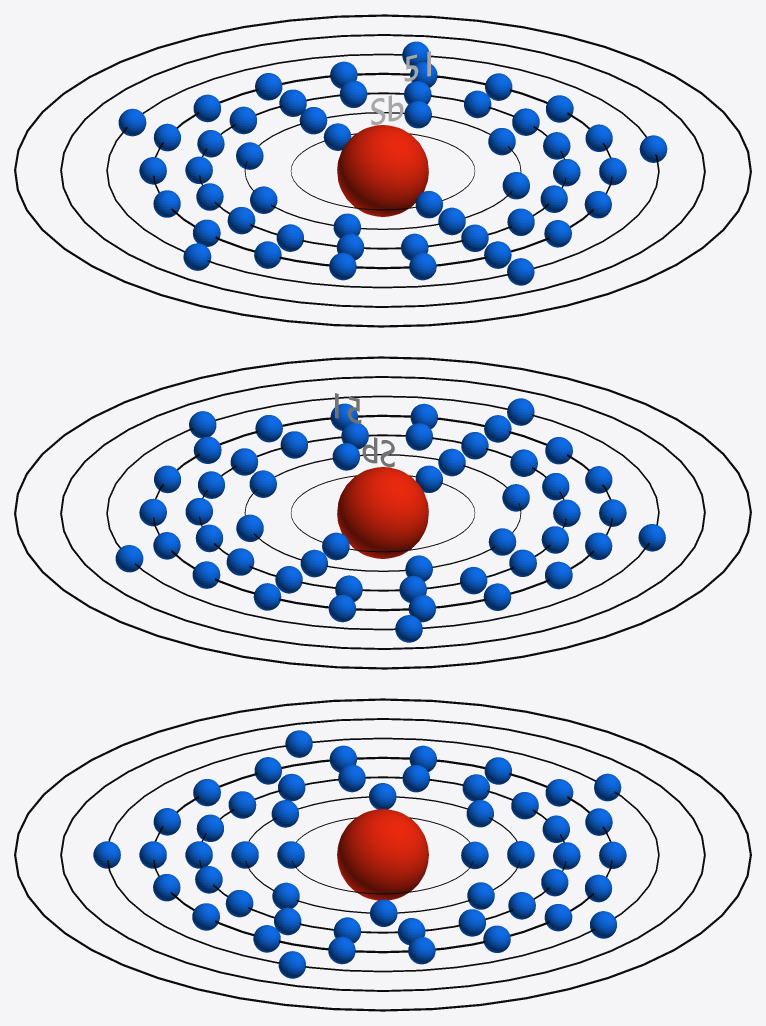
3 renders of one model, top to bottom at view 1: azimuth 30°, elevation 25°; view 2: azimuth 150°, elevation 25°; view 3: azimuth 270°, elevation 25°, orthographic.
Parts seen in each view (by area): view 1: Sb3, Sb4, Proton, Sb2, n7, n6, Sb5, n5, n4, Sb1, n3, n2; view 2: Sb3, Sb4, Proton, Sb2, n7, n6, Sb5, n5, n4, Sb1, n3, n2; view 3: Sb3, Sb4, Proton, Sb2, n7, n6, Sb5, n5, n4, Sb1, n3, n2 (+1 smaller).
Boxes of the visible parts, x1,y1,x2,y2 form: Sb3: (185,80,580,260); Sb4: (139,61,626,280); Proton: (337,125,428,216); Sb2: (236,101,529,238); n7: (14,14,751,327); n6: (60,34,705,307); Sb5: (118,41,667,285); n5: (106,53,659,288); n4: (153,72,612,269); Sb1: (323,123,442,218); n3: (199,92,566,249); n2: (244,112,521,229); Sb3: (185,422,580,602); Sb4: (139,403,626,622); Proton: (337,467,428,558); Sb2: (236,443,529,581); n7: (14,356,751,669); n6: (60,376,705,649); Sb5: (115,398,665,642); n5: (106,395,659,630); n4: (153,414,612,611); Sb1: (322,465,442,560); n3: (199,434,566,591); n2: (244,454,521,571); Sb3: (185,764,580,944); Sb4: (139,745,626,964); Proton: (337,809,428,900); Sb2: (231,783,534,926); n7: (14,698,751,1011); n6: (60,718,705,991); Sb5: (93,730,621,978); n5: (107,737,659,972); n4: (153,756,612,953); Sb1: (277,841,488,869); n3: (199,776,566,933); n2: (245,796,520,913).
Size of the model in its own units: 802 by 180 by 802.
